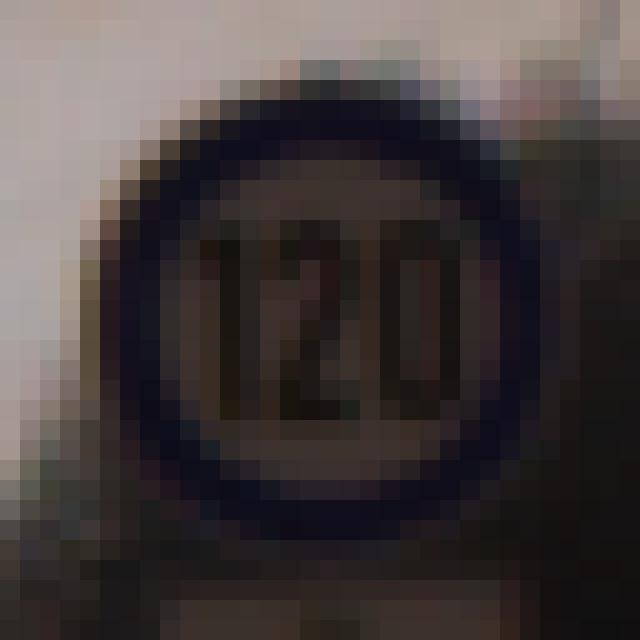SPEED LIMIT 120: (89, 74, 576, 554)
